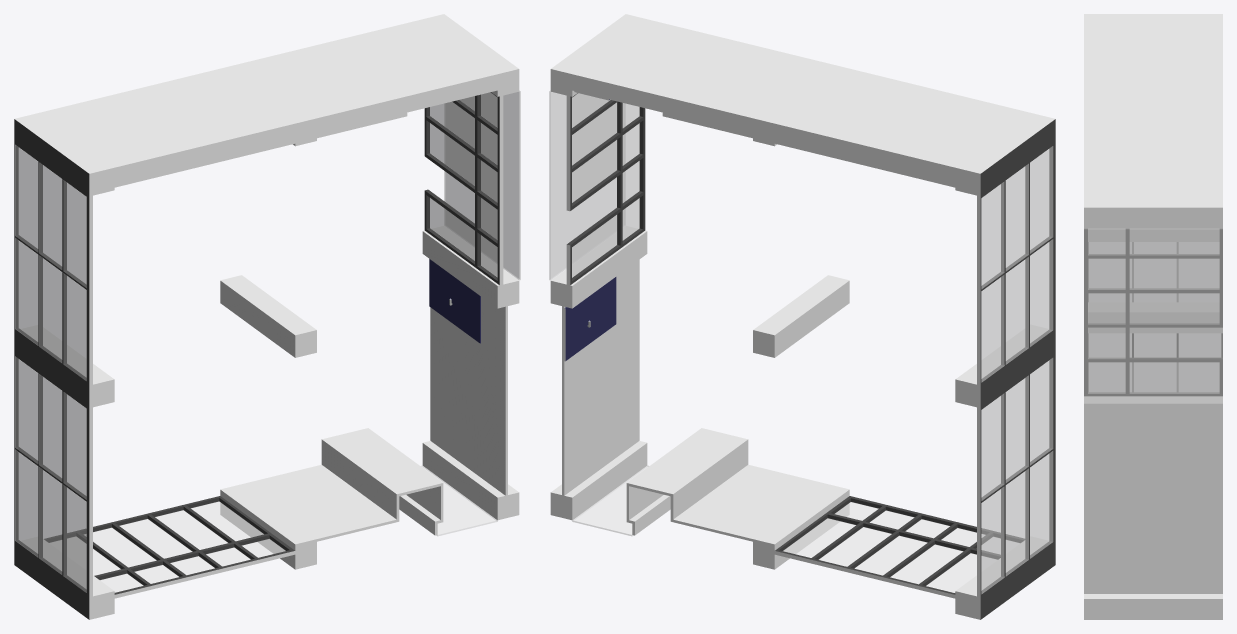
Rendered from zidovi3.dae.
3 renders of one model, left to right at view 1: azimuth 30°, elevation 25°; view 2: azimuth 150°, elevation 25°; view 3: azimuth 270°, elevation 25°, orthographic. The views are drawn at different scales.
Parts seen in each view (by area): view 1: zidovi2, _ncl1_4, _ncl1_2, _ncl1_6; view 2: zidovi2, _ncl1_4, _ncl1_2, _ncl1_6; view 3: zidovi2, _ncl1_4, _ncl1_2.
Part boxes in pixels (x1,y1,x2,y2): zidovi2: [15, 14, 519, 619]; _ncl1_4: [15, 90, 520, 592]; _ncl1_2: [14, 92, 499, 619]; _ncl1_6: [429, 259, 480, 343]; zidovi2: [550, 14, 1054, 619]; _ncl1_4: [549, 90, 1053, 593]; _ncl1_2: [567, 93, 1055, 619]; _ncl1_6: [565, 99, 616, 360]; zidovi2: [1084, 14, 1222, 619]; _ncl1_4: [1084, 228, 1222, 403]; _ncl1_2: [1084, 229, 1222, 395].
Size of the model in its own units: 11.95 by 11.84 by 3.6.
